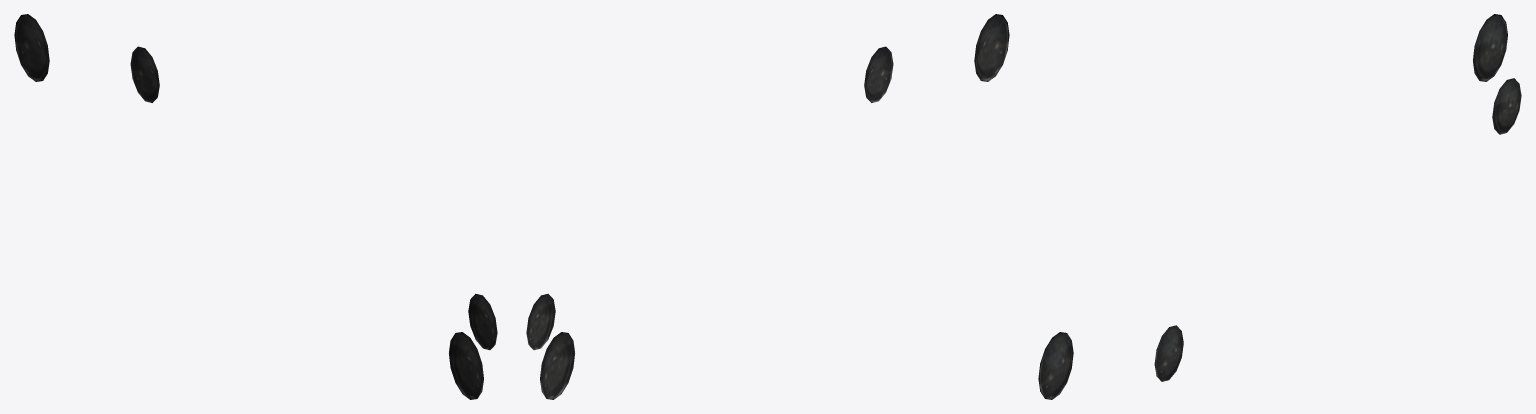
Rendered from tozzo98_headlights_ucb_lights_and_glass_0.003_lev3.glb.
3 views of the same model, side by side, from view 1: azimuth 30°, elevation 25°; view 2: azimuth 150°, elevation 25°; view 3: azimuth 330°, elevation 25° (orthographic).
Visible parts, largest first — view 1: tozzo98_headlights_ucb_lights_and_glass_0.003_lev3; view 2: tozzo98_headlights_ucb_lights_and_glass_0.003_lev3; view 3: tozzo98_headlights_ucb_lights_and_glass_0.003_lev3.
Part boxes in pixels (left/top/right/bottom): tozzo98_headlights_ucb_lights_and_glass_0.003_lev3: left=14, top=14, right=497, bottom=399; tozzo98_headlights_ucb_lights_and_glass_0.003_lev3: left=526, top=14, right=1009, bottom=399; tozzo98_headlights_ucb_lights_and_glass_0.003_lev3: left=1038, top=14, right=1521, bottom=399.
Size of the model in its own units: 0.1218 by 0.1062 by 1.39.
1 material, 1 textured.
